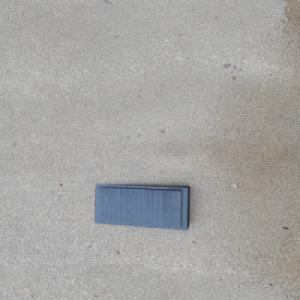PlasticPart: (94, 183, 190, 230)
